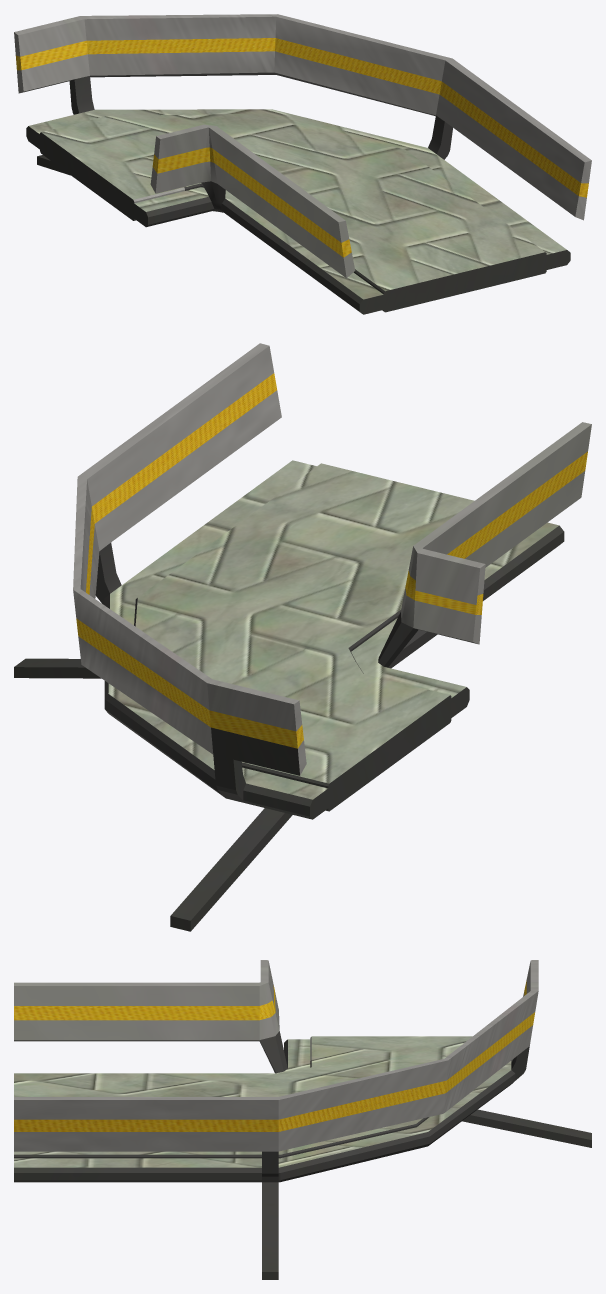
The model's file is BackgroundTurnPlatform.fbx.
3 renders of one model, top to bottom at view 1: azimuth 30°, elevation 25°; view 2: azimuth 150°, elevation 25°; view 3: azimuth 270°, elevation 25°, orthographic. The views are drawn at different scales.
Parts seen in each view (by area): view 1: TurnPlatform; view 2: TurnPlatform; view 3: TurnPlatform.
Boxes of the visible parts, box(x1,y1,x2,y2) form: TurnPlatform: box(14, 14, 591, 314); TurnPlatform: box(14, 343, 591, 931); TurnPlatform: box(14, 960, 591, 1279).
Size of the model in its own units: 6 by 2.71 by 9.01.
Materials: 1 (1 with a texture image).
